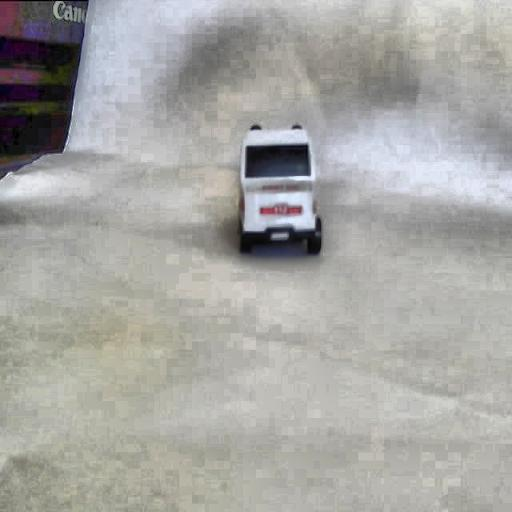ambulance: (236, 123, 322, 254)
